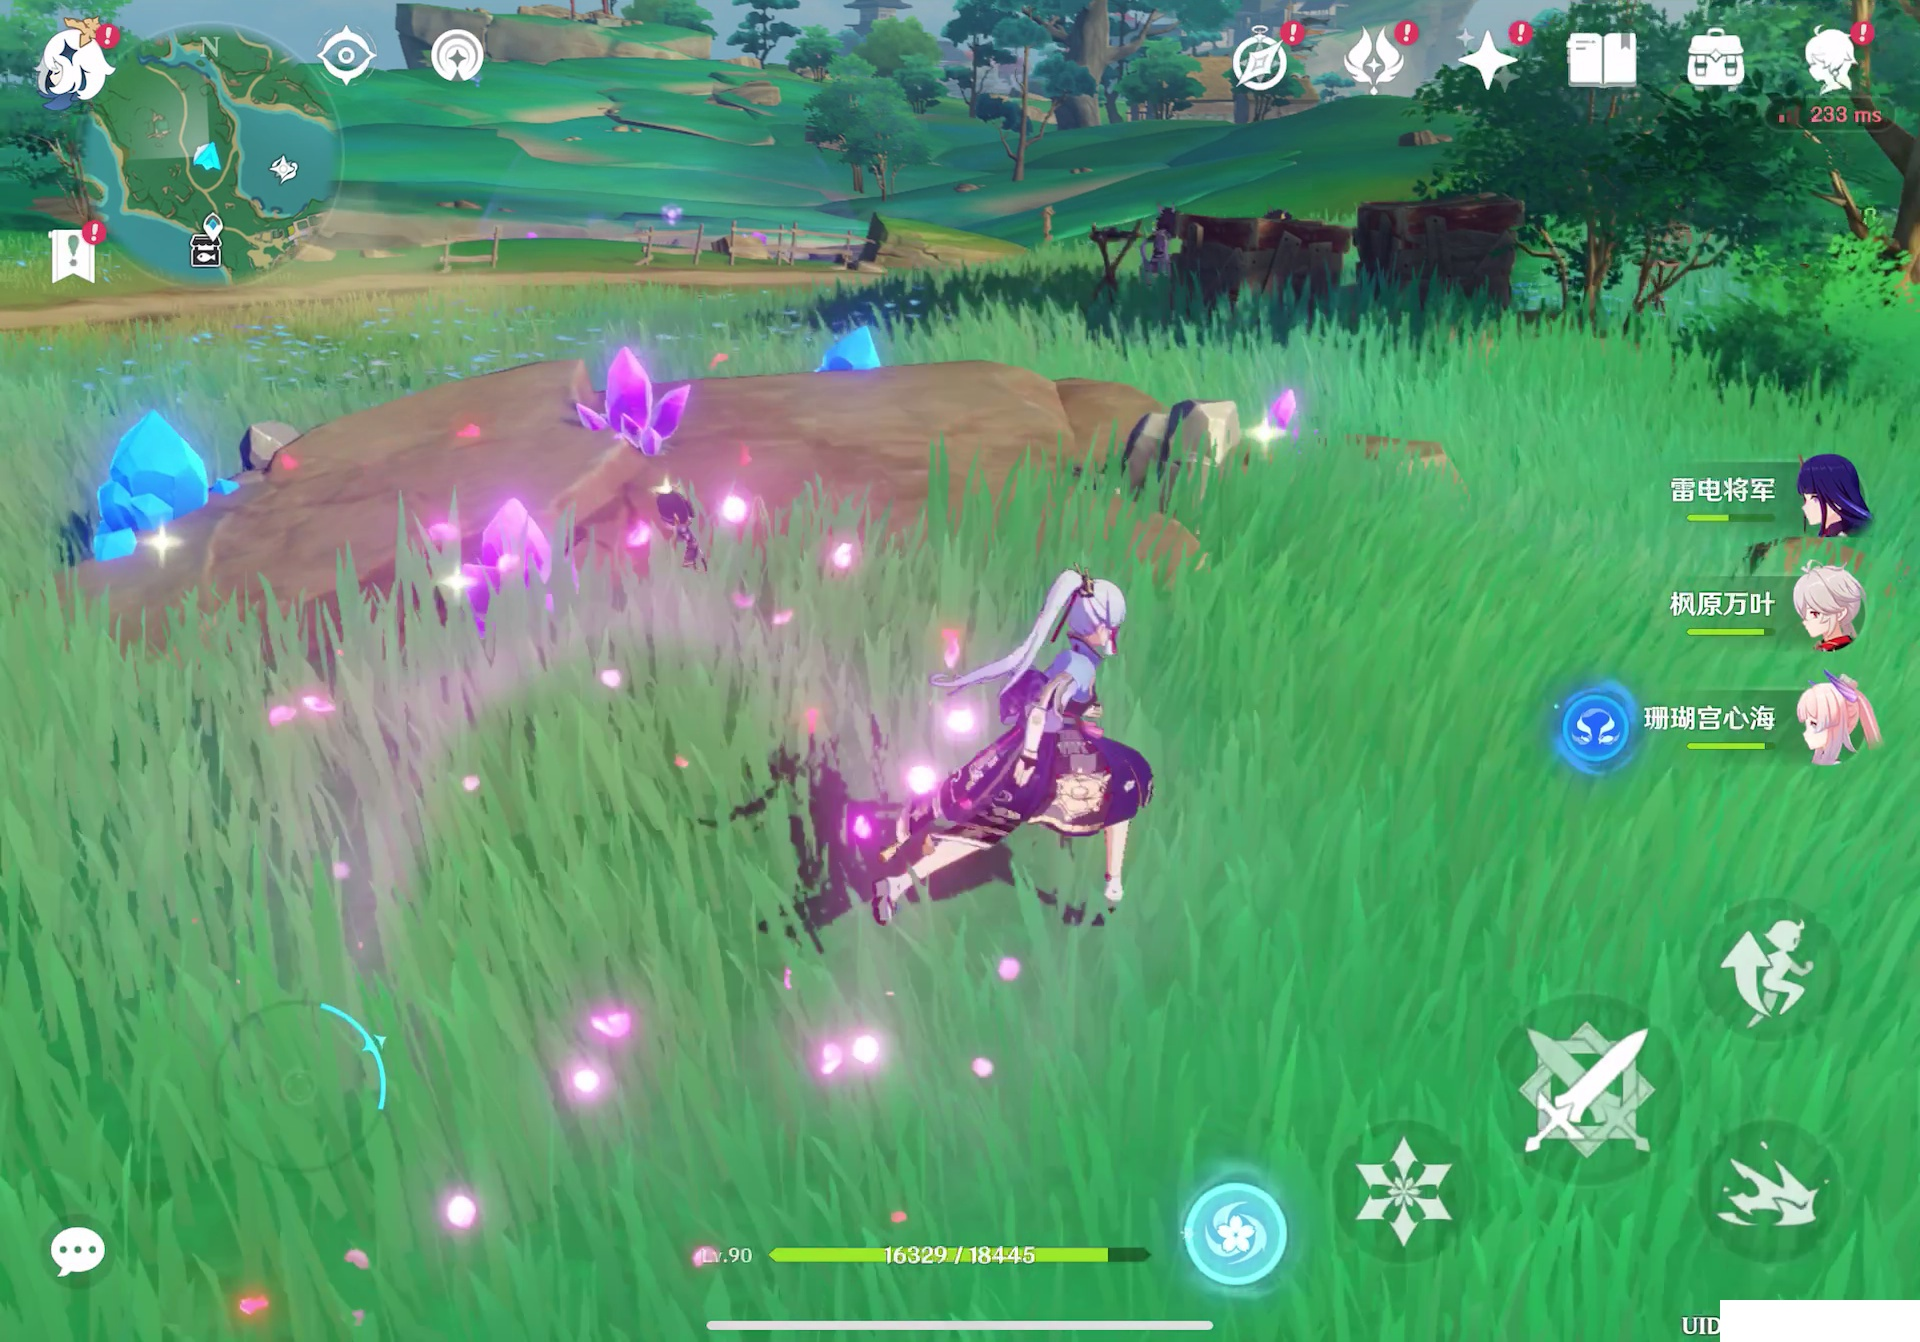白铁矿石: (1132, 392, 1242, 500), (239, 416, 290, 465)
神里绫龟: (894, 553, 1153, 931)
紫矿石: (585, 352, 705, 457), (462, 505, 573, 583), (1269, 384, 1309, 435)
蓝矿石: (85, 406, 228, 548), (818, 314, 874, 376)
